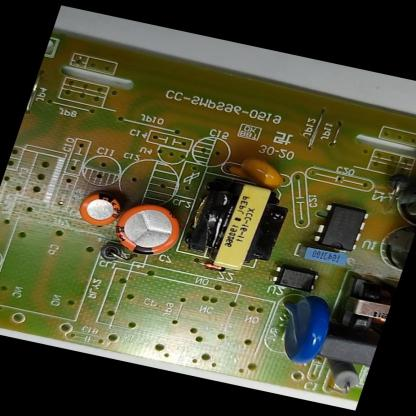Cap1: (105, 196, 190, 264)
Cap2: (73, 185, 128, 234)
Cap3: (372, 220, 416, 281)
Cap4: (389, 162, 416, 226)
MOSFET: (307, 198, 374, 255)
Mov: (260, 290, 336, 370)
Resistor: (316, 358, 367, 395)
Transformer: (177, 173, 296, 279), (326, 270, 398, 340)
